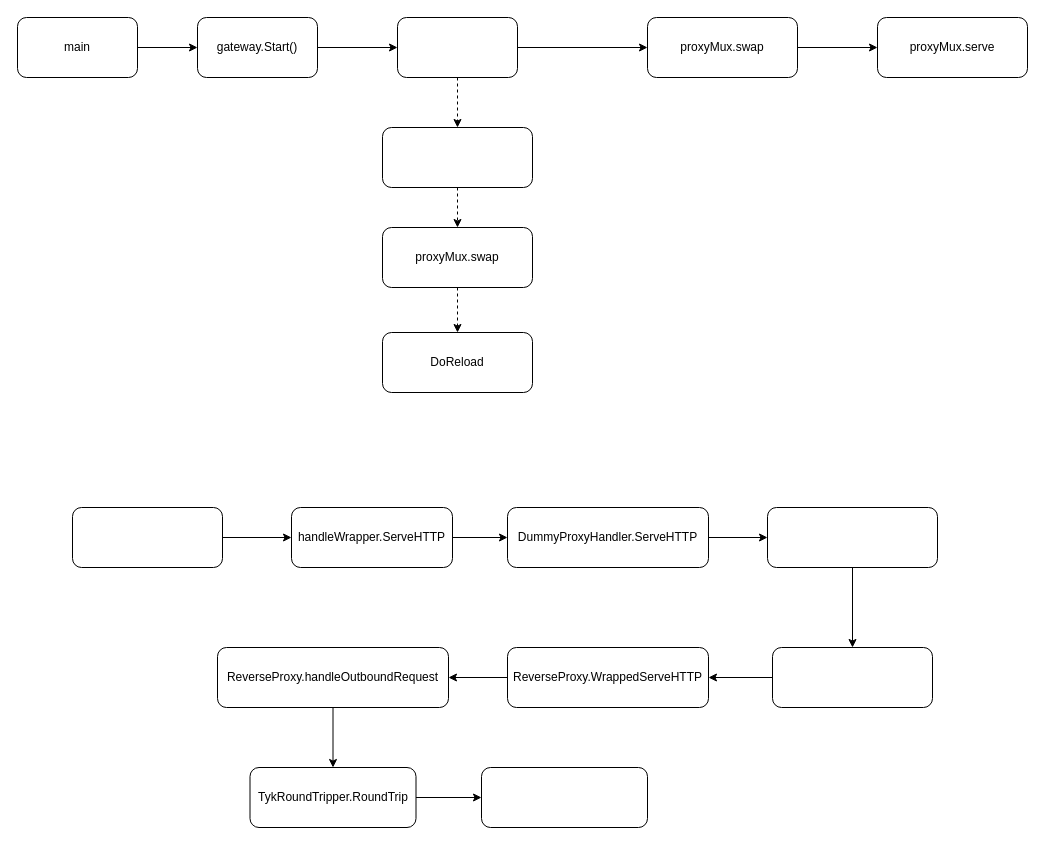
Some shapes in this 1045 by 845 pixel diagram are drawn without their labels. The shapes that lost their labels are listed below. From the top down, each one's box as (x1, y1, x2, y2) in pixels, then its label:
(396, 16, 518, 78): Gateway.startServer()
(382, 126, 532, 188): loadControlAPIEndpoints
(72, 506, 222, 568): h2cWrapper.ServeHTTP
(766, 506, 938, 568): SuccessHandler.ServeHTTP
(772, 646, 932, 708): ReverseProxy.ServeHTTP
(480, 766, 648, 828): http.Transport.roundTrip
